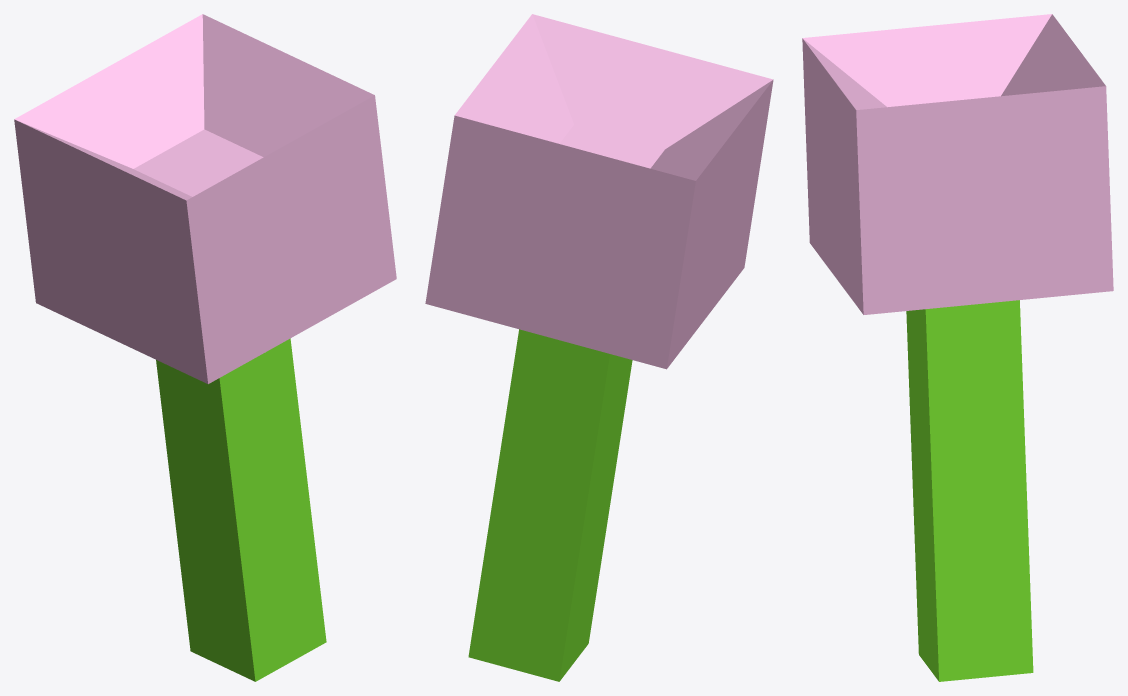
The model's file is tulip_pink.fbx.
3 views of the same model, side by side, from view 1: azimuth 30°, elevation 25°; view 2: azimuth 150°, elevation 25°; view 3: azimuth 270°, elevation 25° (orthographic).
Visible parts, largest first — view 1: Cube.077; view 2: Cube.077; view 3: Cube.077.
Part boxes in pixels (box(x1,y1,x2,y2)): Cube.077: box(14, 14, 396, 681); Cube.077: box(425, 14, 773, 681); Cube.077: box(802, 14, 1113, 681).
Size of the model in its own units: 25.65 by 50.12 by 24.02.
Materials: 1 (1 with a texture image).
